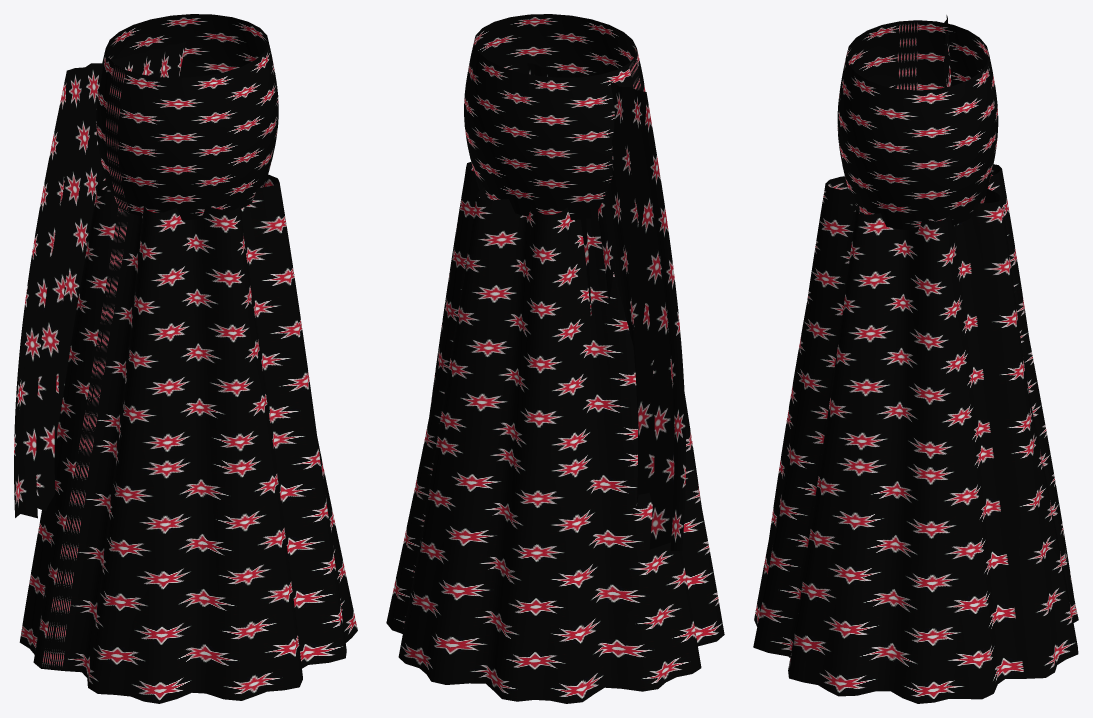
File: saree.glb
3 views of the same model, side by side, from view 1: azimuth 30°, elevation 25°; view 2: azimuth 150°, elevation 25°; view 3: azimuth 270°, elevation 25° (orthographic).
Visible parts, largest first — view 1: SareeSkirt, Blouse, Pallu; view 2: SareeSkirt, Blouse, Pallu; view 3: SareeSkirt, Blouse.
Part boxes in pixels (left/top/right/bottom): SareeSkirt: left=19, top=174, right=357, bottom=703; Blouse: left=96, top=14, right=278, bottom=220; Pallu: left=14, top=41, right=186, bottom=518; SareeSkirt: left=386, top=162, right=724, bottom=703; Blouse: left=464, top=14, right=645, bottom=219; Pallu: left=527, top=63, right=685, bottom=550; SareeSkirt: left=753, top=164, right=1078, bottom=703; Blouse: left=837, top=20, right=998, bottom=230.
Size of the model in its own units: 0.6478 by 1.22 by 0.6226.
Materials: 2 (2 with a texture image).
